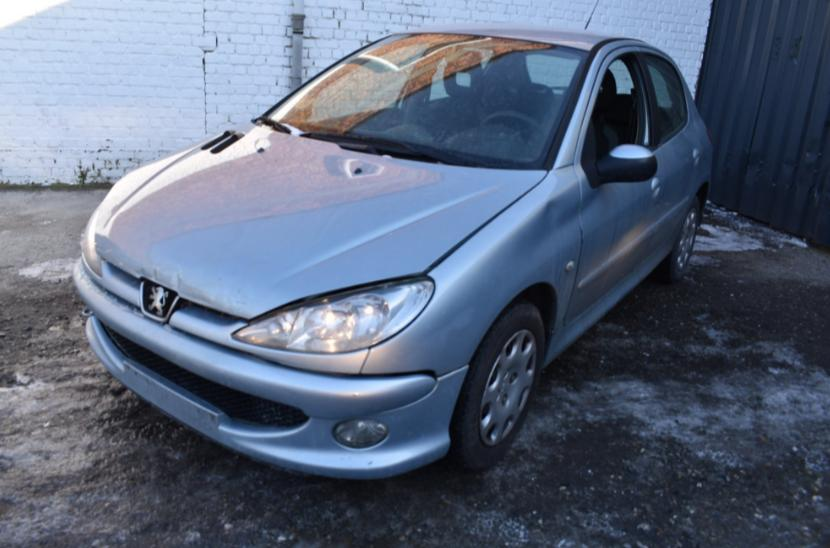Back-door: (637, 47, 704, 247)
Back-wheel: (647, 196, 701, 283)
Back-window: (644, 54, 688, 145)
Fender: (361, 164, 583, 376)
Front-bumper: (75, 251, 468, 479)
Front-door: (566, 47, 664, 321)
Front-wheel: (450, 302, 548, 469)
Grille: (103, 323, 307, 428)
Headlight: (232, 275, 435, 356), (80, 196, 107, 276)
Hood: (95, 118, 547, 320)
Mirror: (597, 142, 657, 184)
Rocker-panel: (543, 222, 684, 368)
Roof: (396, 29, 634, 52)
Windshield: (260, 33, 589, 170)
